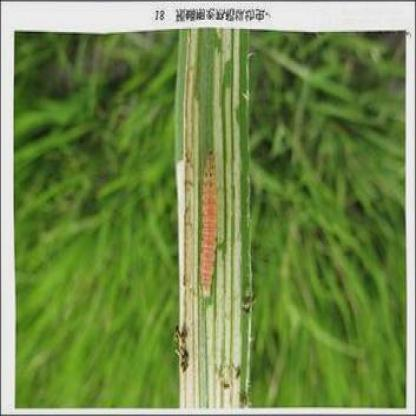leaf-folder: (188, 139, 226, 305)
